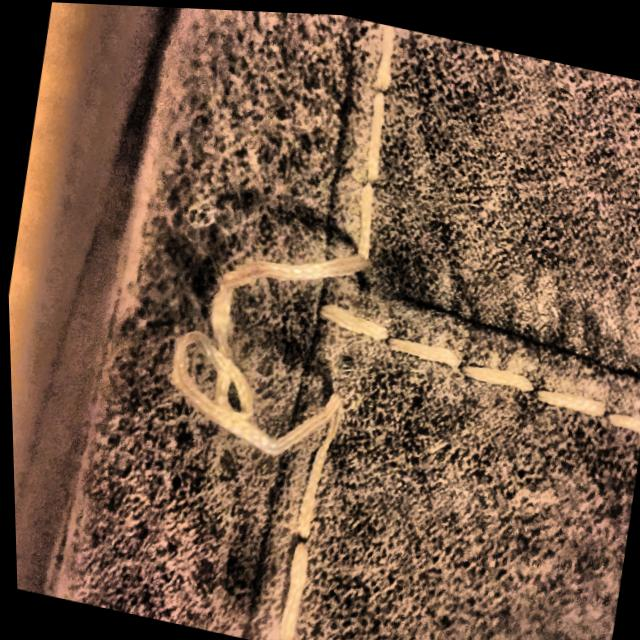Stitch: (104, 107, 467, 521)
